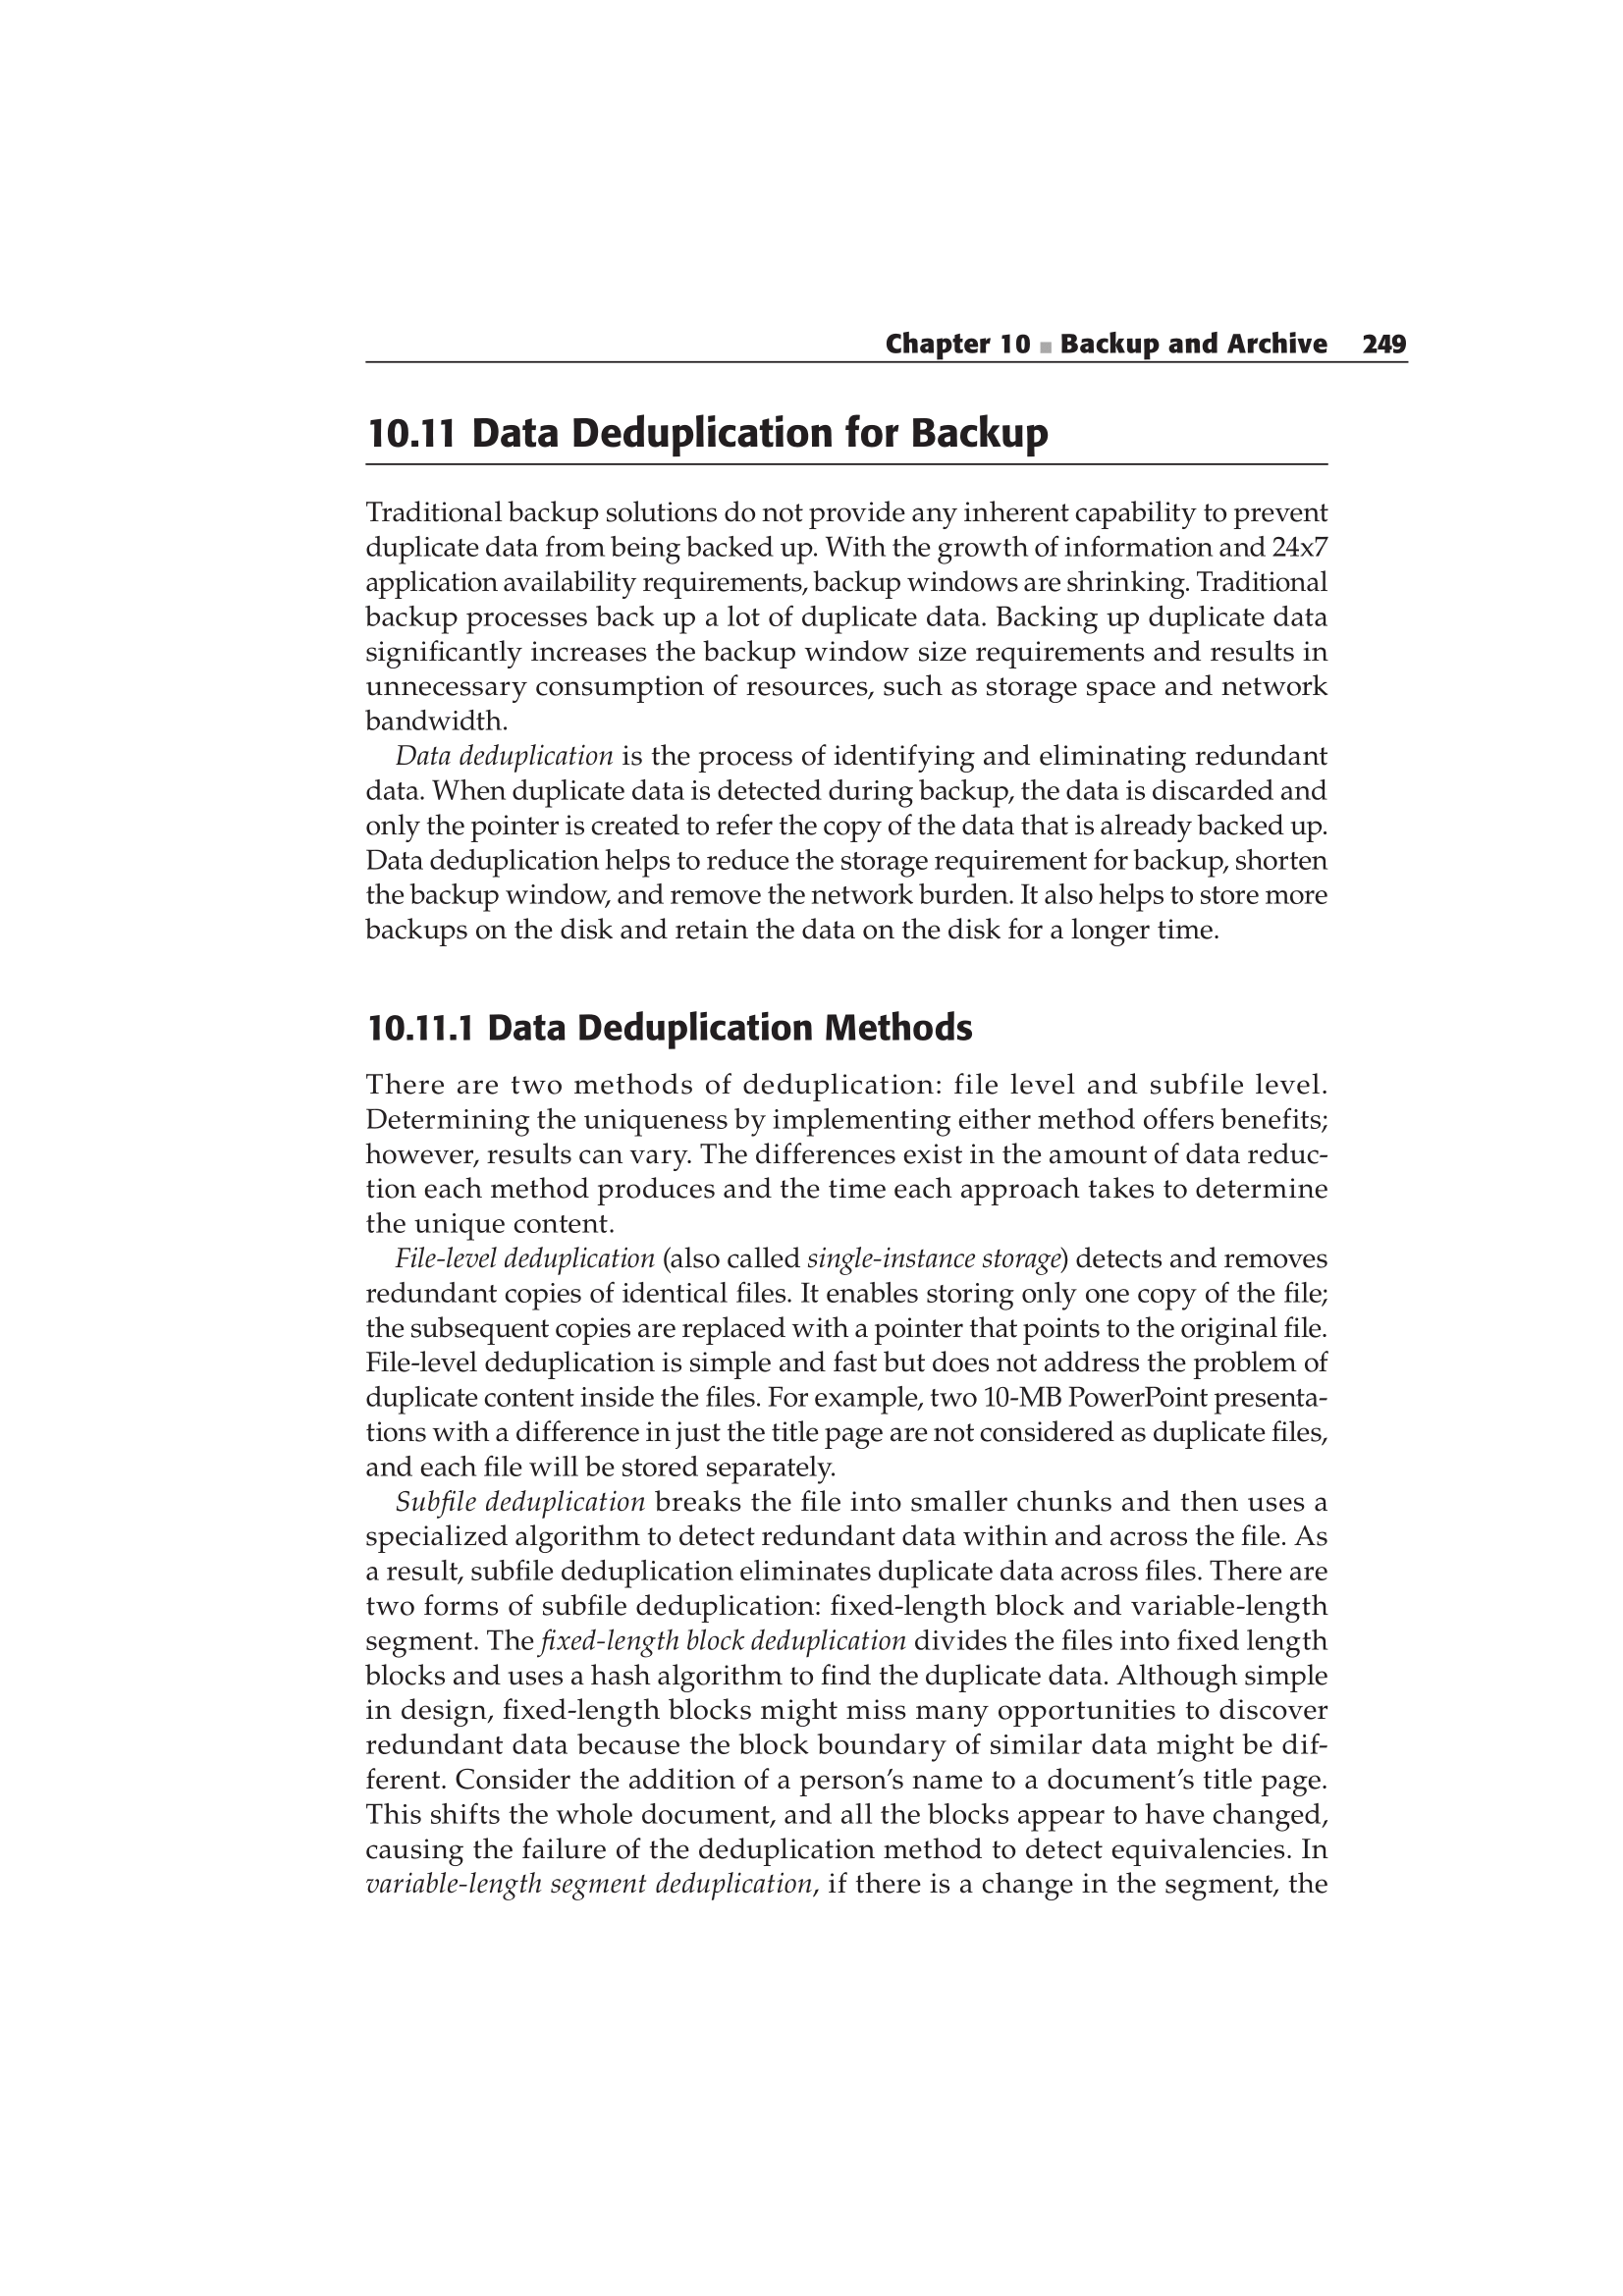Paragraph: (285, 1480, 1400, 2054), (272, 486, 1403, 737), (335, 1064, 1400, 1236), (393, 272, 1521, 356), (306, 972, 1115, 1060), (285, 402, 1158, 474)
